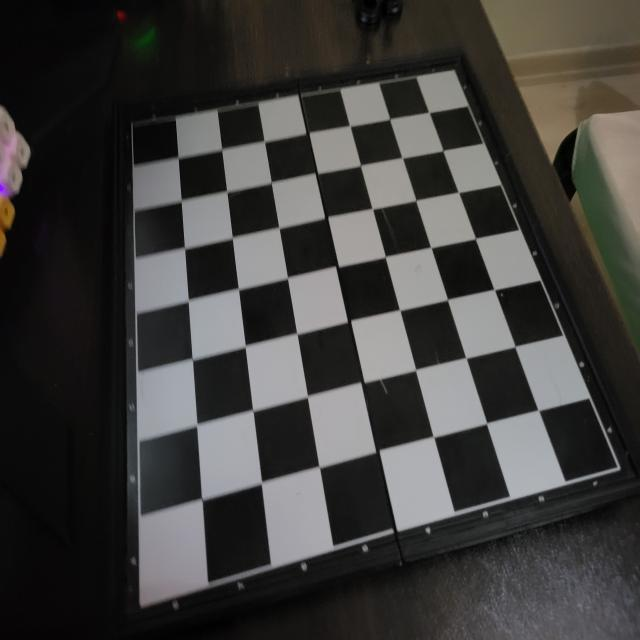chess-board: (117, 62, 627, 603)
